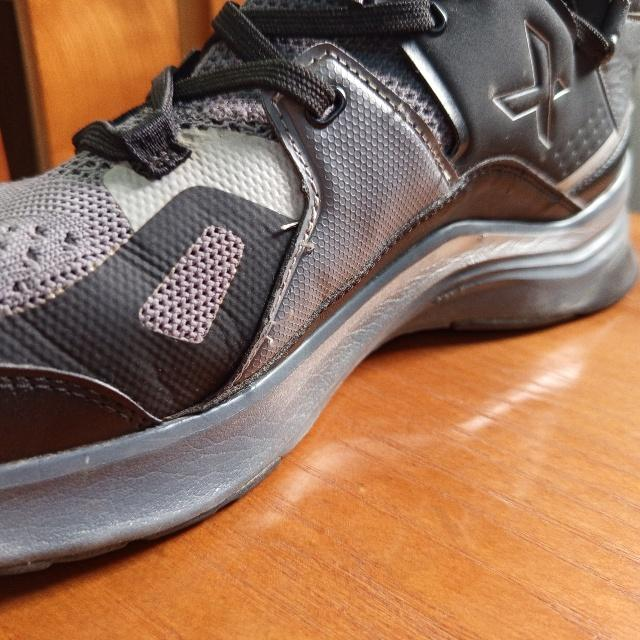broken-error: (255, 307, 294, 348), (394, 98, 414, 127)
